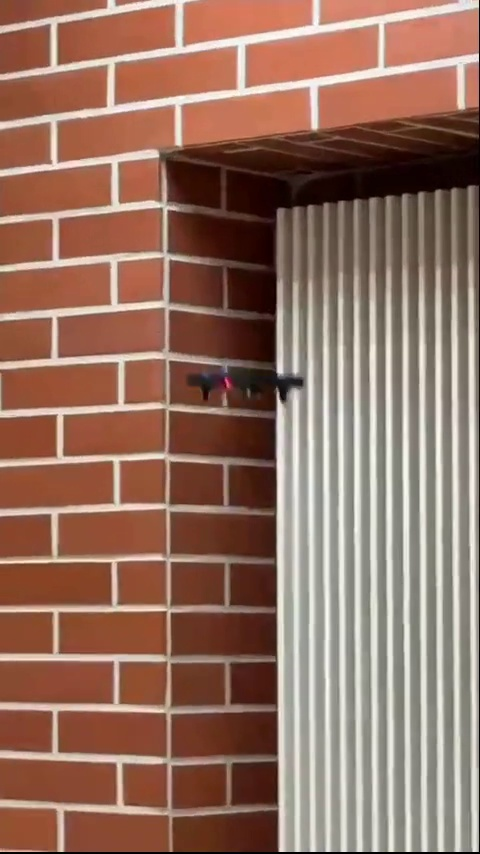drone: (184, 359, 310, 409)
